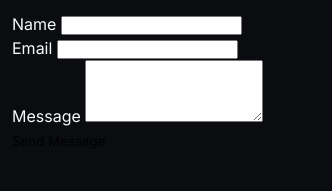
it: ContactForm › Form Submission › shows success message on successful submission
In the field with id "contact-name": (151, 26) 61,16 -> 242,35, type "John Doe"
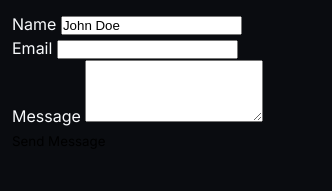
In the field with id "contact-email": (147, 50) 57,40 -> 238,59, type "john@example.com"
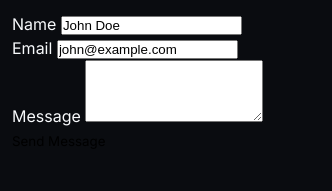
In the text box with id "contact-message": (174, 91) 85,60 -> 263,122, type "Hello, I would like to discuss a project with you."
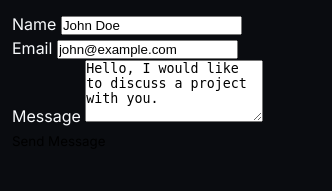
Submit the form, box 12,14 -> 263,149
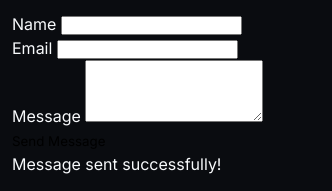
Result: the message with class "form-status" shows "successfully" at 12,154 -> 222,174
